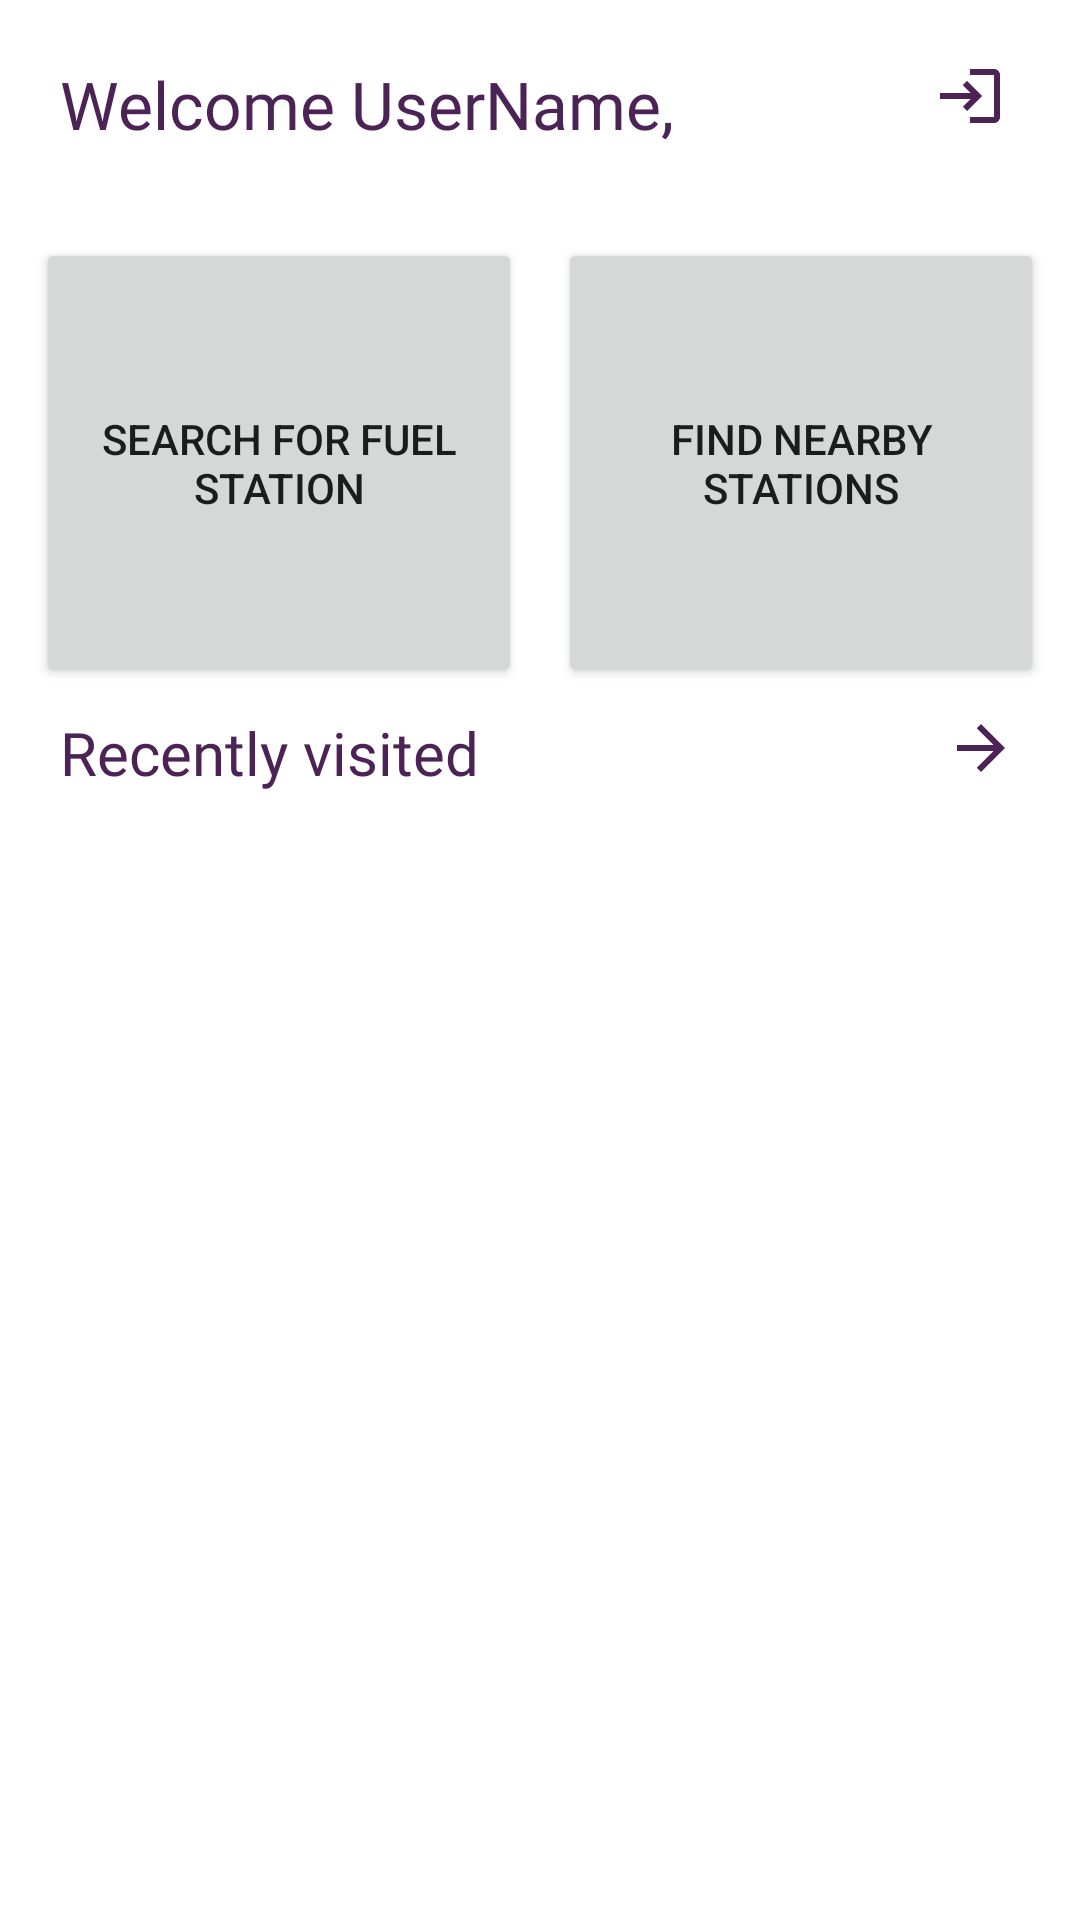

Named icons in this screenshot (1080x1920) and their centers, [x,y]:
arrow forward: [981,748]
login: [970,96]
